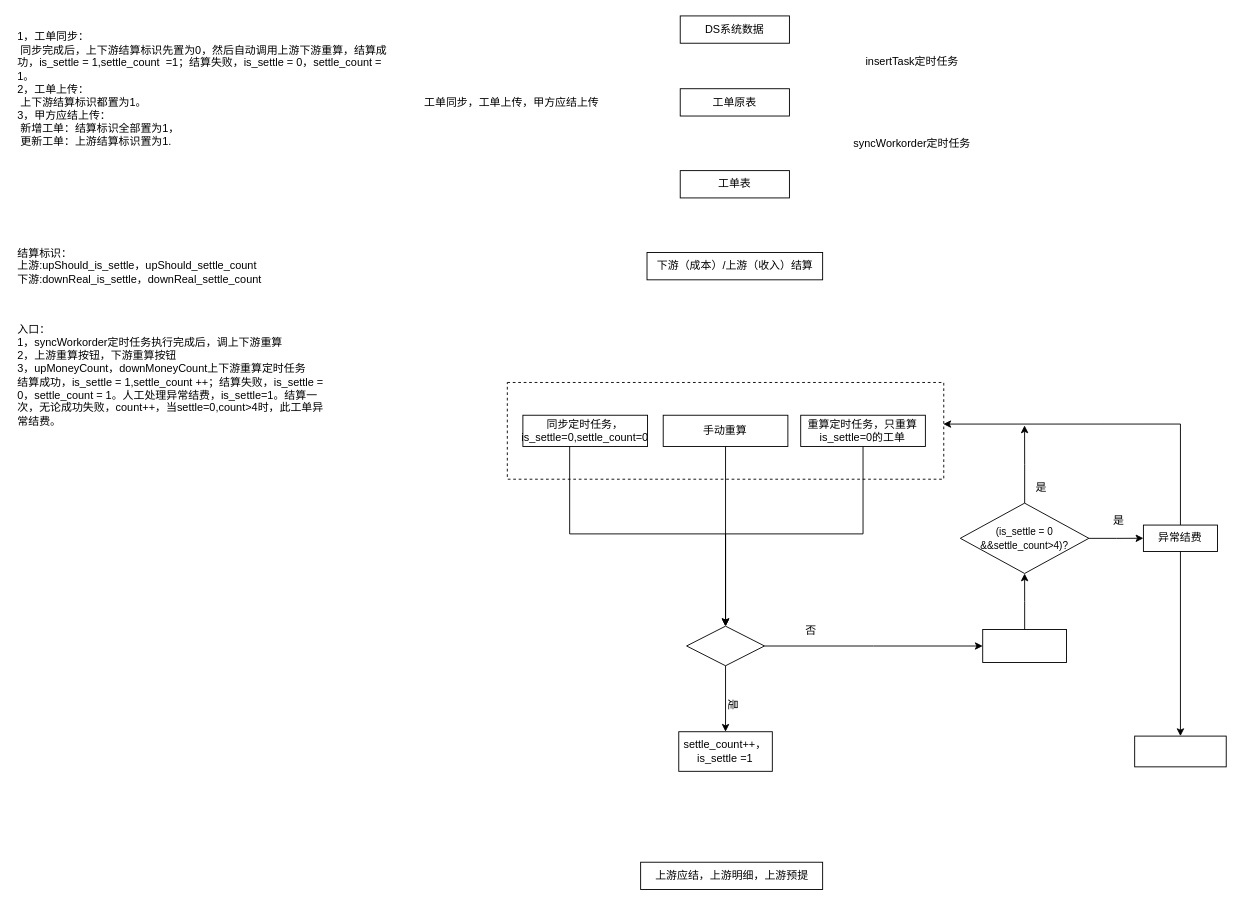
The diagram is 1242 pixels wide and 905 high, and some of its shapes have lost their labels. Each missing label, with the box of its shape:
settle_count++， is_settle =0: (982, 629, 1067, 662)
人工处理异常结费 is_settle = 2: (1134, 735, 1226, 767)
是否成功？: (686, 625, 764, 666)
